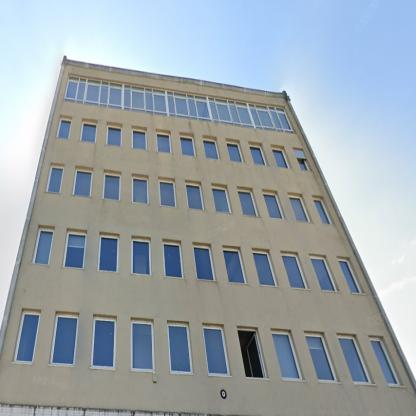window: (64, 75, 294, 132), (338, 338, 369, 382), (305, 336, 335, 381), (237, 328, 264, 376), (51, 316, 77, 364), (370, 340, 399, 383), (272, 332, 299, 378), (14, 313, 39, 361), (204, 327, 228, 373), (168, 325, 191, 371), (92, 319, 114, 367), (132, 323, 153, 370), (253, 252, 276, 286), (282, 256, 306, 288), (310, 259, 334, 291), (338, 260, 360, 293), (64, 233, 85, 267), (223, 250, 245, 282), (34, 230, 54, 264), (193, 248, 213, 280), (99, 237, 117, 270), (133, 240, 150, 274), (164, 244, 182, 276), (289, 196, 309, 221), (264, 194, 284, 219), (237, 192, 257, 216), (186, 184, 204, 210), (74, 171, 92, 195), (47, 166, 63, 192), (212, 189, 230, 212), (160, 181, 176, 206), (104, 174, 120, 199), (132, 177, 147, 203), (314, 199, 330, 223), (249, 146, 266, 166), (81, 122, 97, 142), (57, 118, 72, 138), (180, 136, 195, 156), (203, 140, 219, 158), (226, 143, 242, 161), (107, 126, 121, 146), (158, 133, 172, 153), (272, 150, 289, 166), (133, 130, 146, 148), (297, 158, 308, 171)
